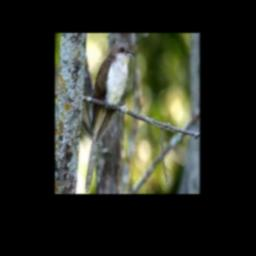Cuckoo: (86, 42, 136, 192)
